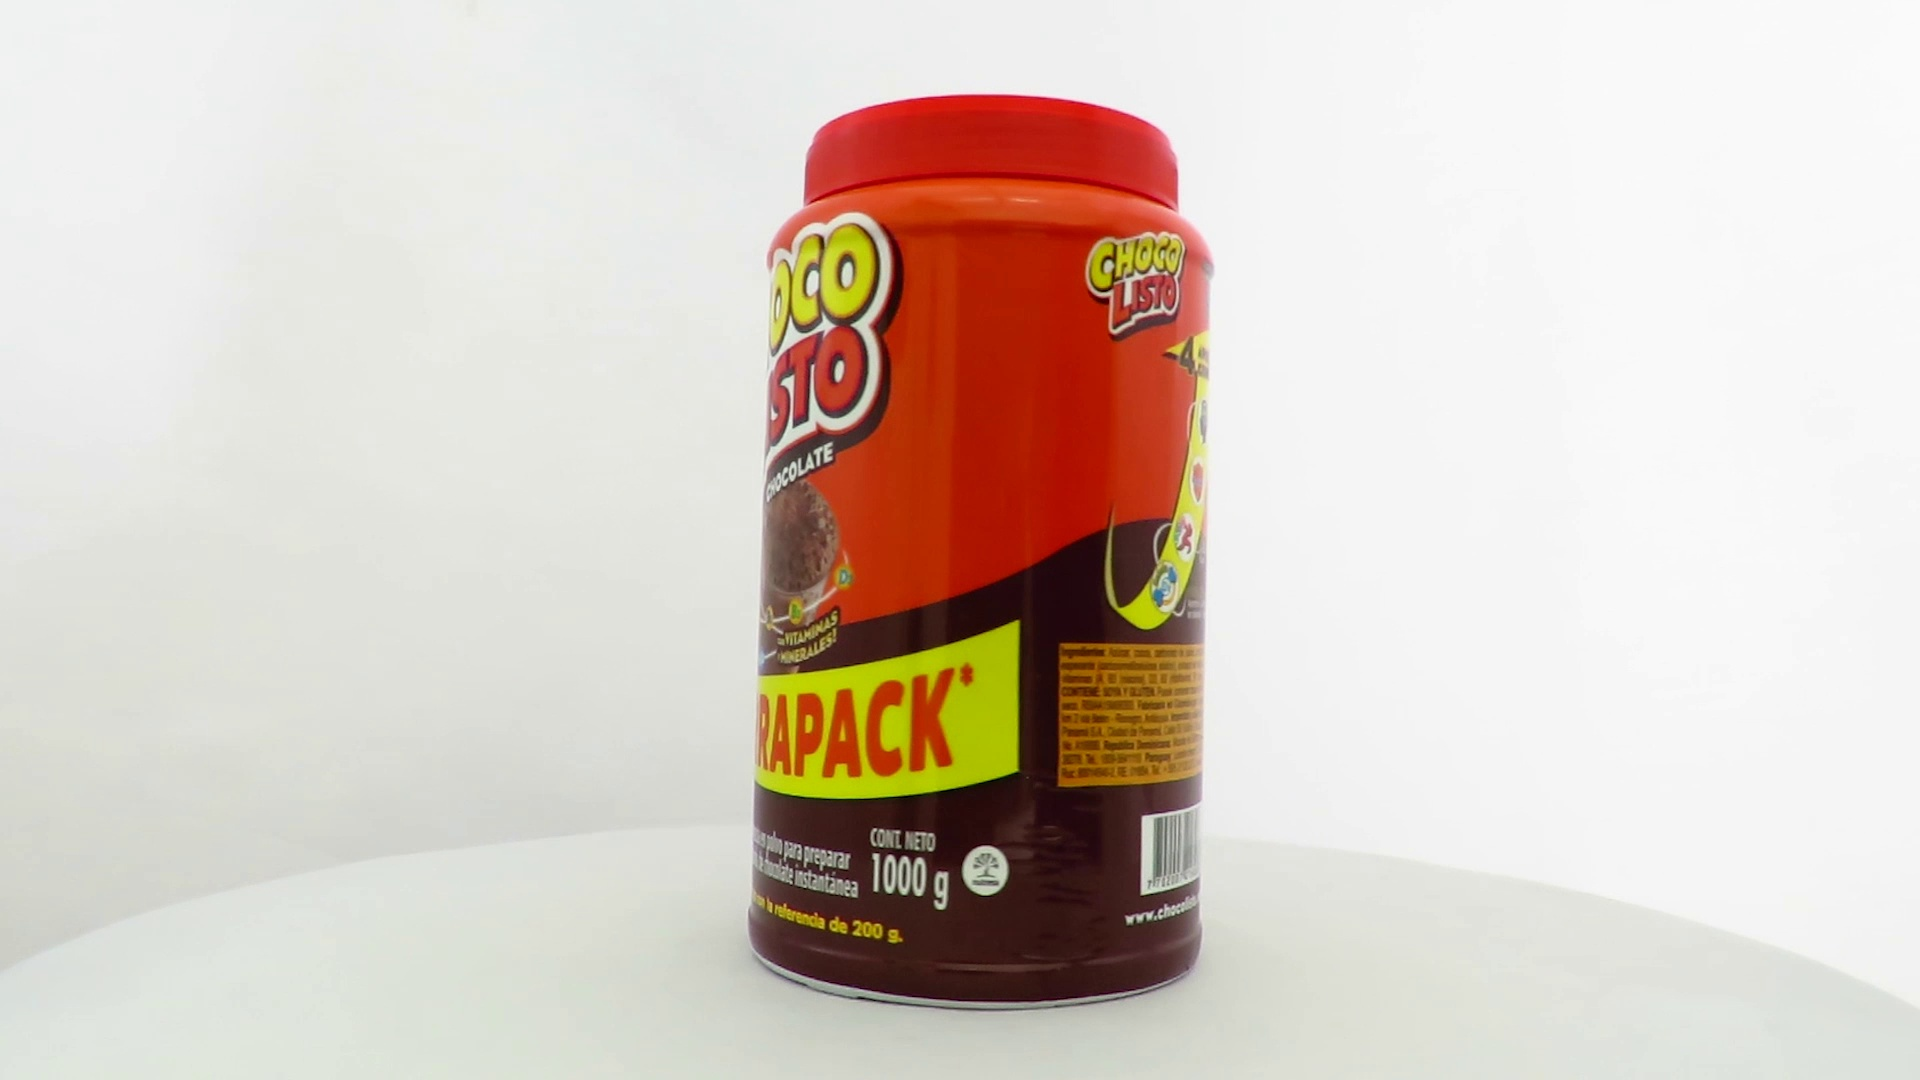COL0170103TRR00100: (742, 88, 1212, 1018)
